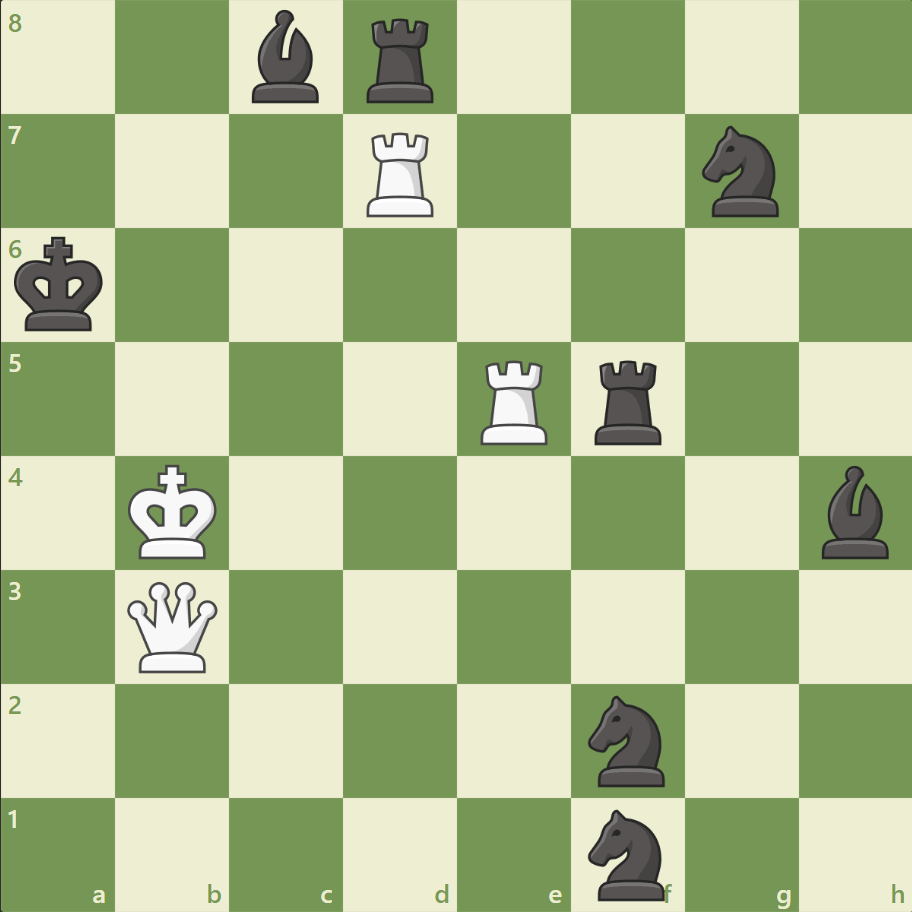K: (124, 458, 224, 566)
Q: (124, 576, 223, 676)
R: (473, 352, 556, 449), (360, 125, 442, 222)
b: (244, 6, 328, 109), (812, 460, 896, 563)
k: (11, 231, 111, 339)
n: (579, 688, 676, 791), (692, 121, 789, 223), (579, 802, 676, 904)
r: (587, 352, 670, 449), (360, 12, 442, 109)
